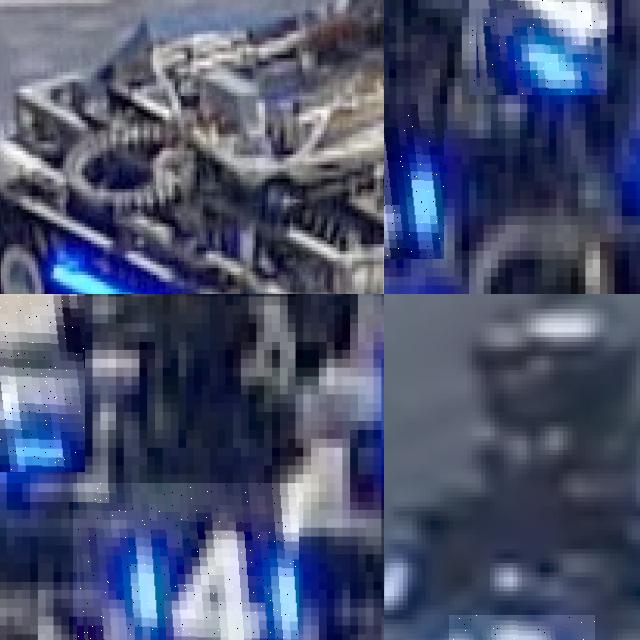B4: (72, 483, 299, 640), (0, 296, 84, 474), (469, 0, 607, 95), (384, 103, 443, 259)
B5: (448, 615, 595, 640)
